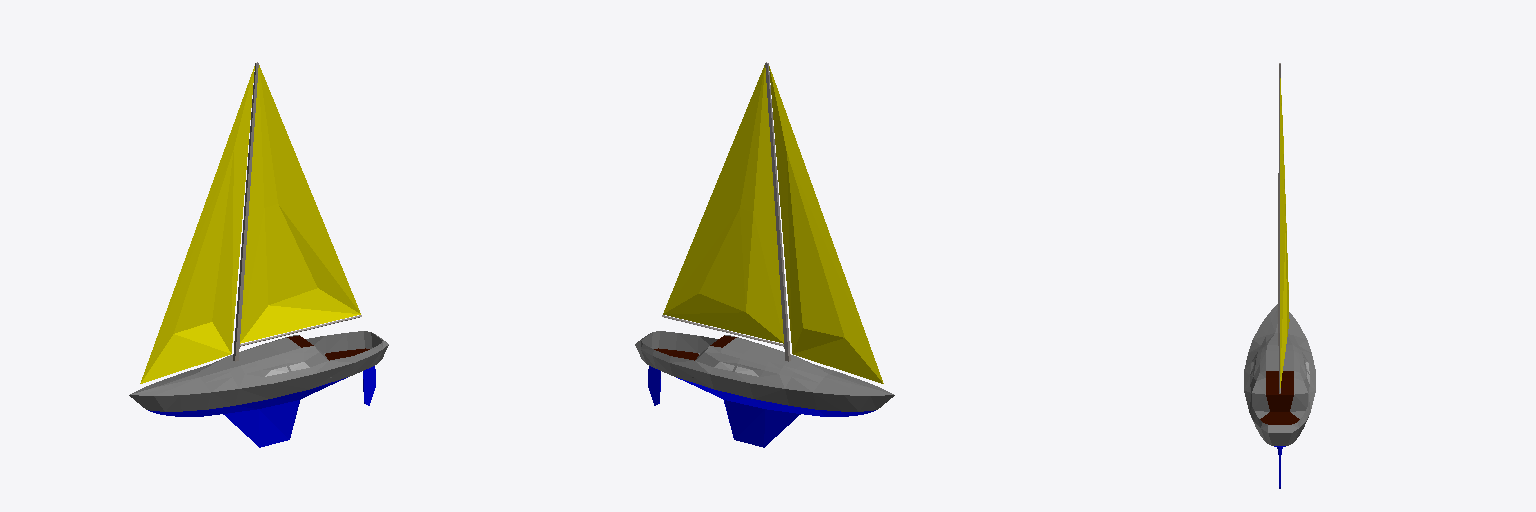
Rendered from boat.obj.
The picture shows the model from 3 angles: view 1: azimuth 30°, elevation 25°; view 2: azimuth 150°, elevation 25°; view 3: azimuth 270°, elevation 25°; orthographic projection.
Parts seen in each view (by area): view 1: WHITE_MATTE_Hard_Textured_Plastic_White_0, 0_Hard_Shiny_Plastic_Grey_0, MATTE_Paint_Gloss_Blue_0, STEEL_Steel_Rough_0; view 2: WHITE_MATTE_Hard_Textured_Plastic_White_0, 0_Hard_Shiny_Plastic_Grey_0, MATTE_Paint_Gloss_Blue_0, STEEL_Steel_Rough_0; view 3: 0_Hard_Shiny_Plastic_Grey_0, WHITE_MATTE_Hard_Textured_Plastic_White_0, WOOD_INLAY_-_A_Paint_Matte_Orange_0, STEEL_Steel_Rough_0.
Part boxes in pixels (x1,y1,x2,y2): WHITE_MATTE_Hard_Textured_Plastic_White_0: (140,65,360,383); 0_Hard_Shiny_Plastic_Grey_0: (129,331,388,411); MATTE_Paint_Gloss_Blue_0: (148,366,375,447); STEEL_Steel_Rough_0: (233,62,361,361); WHITE_MATTE_Hard_Textured_Plastic_White_0: (663,65,883,383); 0_Hard_Shiny_Plastic_Grey_0: (635,331,894,411); MATTE_Paint_Gloss_Blue_0: (648,366,875,447); STEEL_Steel_Rough_0: (662,62,790,361); 0_Hard_Shiny_Plastic_Grey_0: (1244,304,1315,445); WHITE_MATTE_Hard_Textured_Plastic_White_0: (1280,78,1289,387); WOOD_INLAY_-_A_Paint_Matte_Orange_0: (1260,371,1299,424); STEEL_Steel_Rough_0: (1278,63,1280,393).
Size of the model in its own units: 318 by 460 by 77.78.